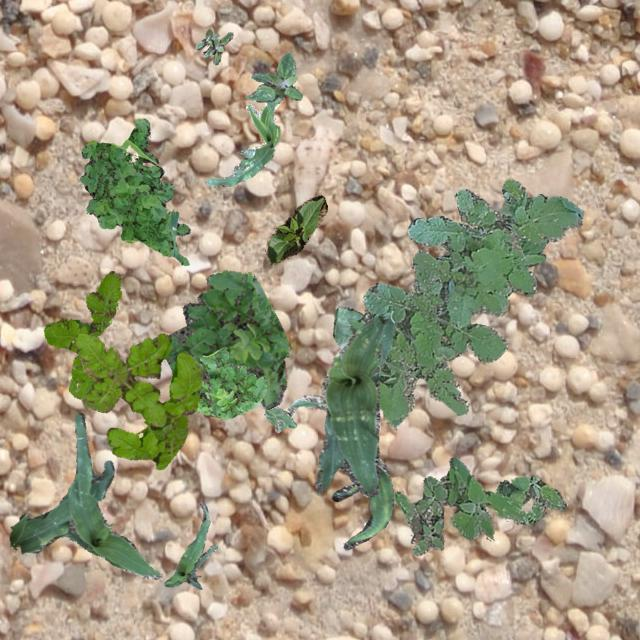crop: (8, 412, 160, 578), (274, 394, 392, 548), (314, 314, 394, 496), (203, 96, 281, 186), (164, 501, 216, 588), (264, 194, 326, 264), (332, 306, 363, 348), (258, 400, 296, 426)
weed: (348, 178, 582, 426), (74, 332, 202, 468), (164, 270, 290, 408), (392, 456, 566, 554), (78, 118, 188, 264), (42, 270, 121, 398), (192, 346, 266, 418), (437, 224, 548, 266), (244, 50, 302, 100), (194, 28, 232, 64)
